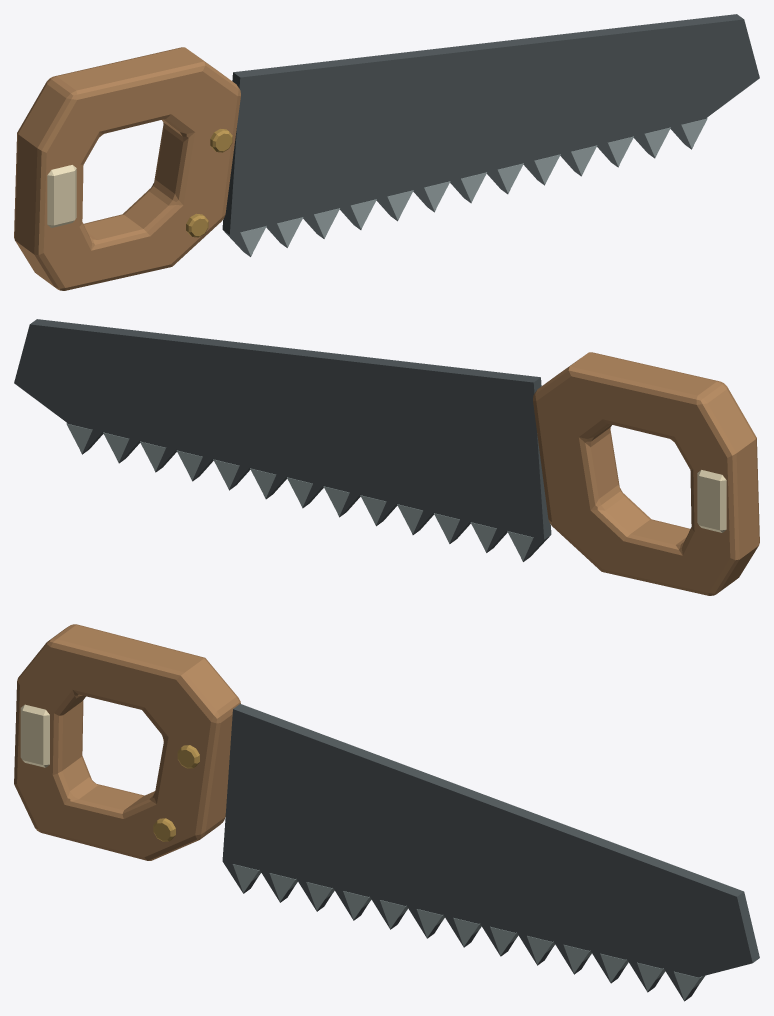
The model's file is tool_saw.glb.
3 views of the same model, one above another, from view 1: azimuth 30°, elevation 25°; view 2: azimuth 150°, elevation 25°; view 3: azimuth 330°, elevation 25° (orthographic).
Visible parts, largest first — view 1: tool_saw; view 2: tool_saw; view 3: tool_saw.
Boxes of the visible parts, x1,y1,x2,y2 form: tool_saw: (14,14,759,290); tool_saw: (14,319,759,595); tool_saw: (14,624,759,1001).
Bounding box in the file's own units: 0.697 × 0.1959 × 0.057.
